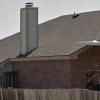Chimney: (15, 2, 46, 58)
